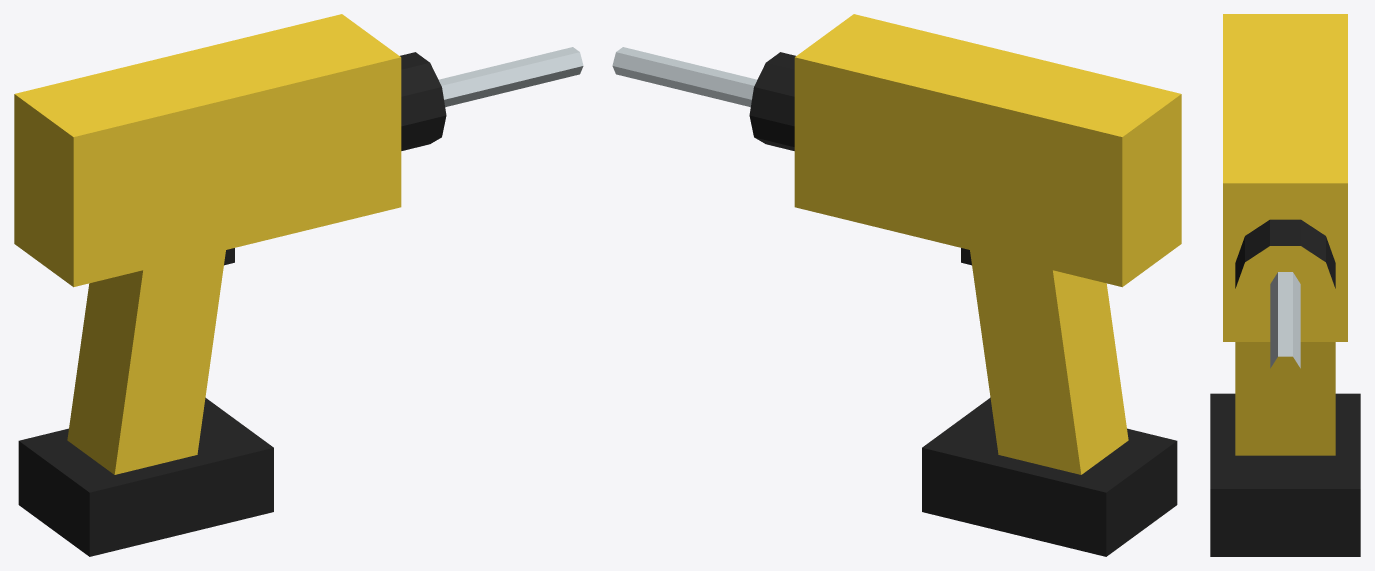
Rendered from borrmaskin.glb.
The picture shows the model from 3 angles, left to right: view 1: azimuth 30°, elevation 25°; view 2: azimuth 150°, elevation 25°; view 3: azimuth 270°, elevation 25°; orthographic projection. The views are drawn at different scales.
Visible parts, largest first — view 1: borrmaskin; view 2: borrmaskin; view 3: borrmaskin.
Boxes of the visible parts, box(x1,y1,x2,y2) form: borrmaskin: box(14, 14, 583, 556); borrmaskin: box(612, 14, 1181, 556); borrmaskin: box(1210, 14, 1360, 556).
Size of the model in its own units: 0.52 by 0.39 by 0.12.
